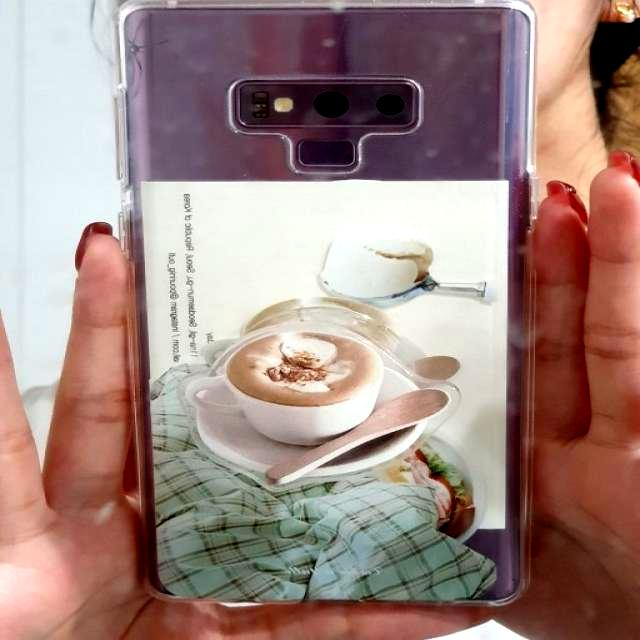lens_back: (310, 79, 367, 133), (376, 89, 410, 134), (243, 85, 275, 120)
phone: (108, 2, 546, 617)
